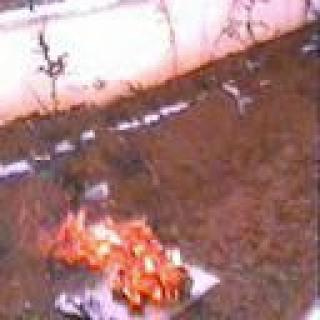fire: (22, 203, 202, 318)
